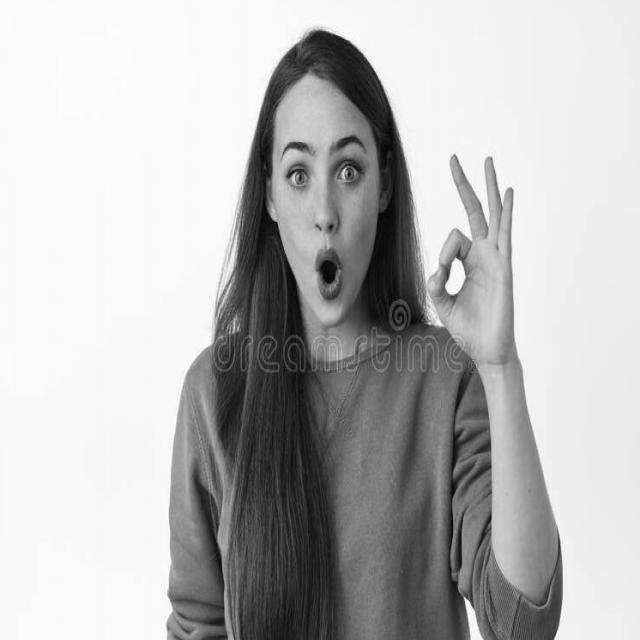perfect: (421, 138, 527, 386)
